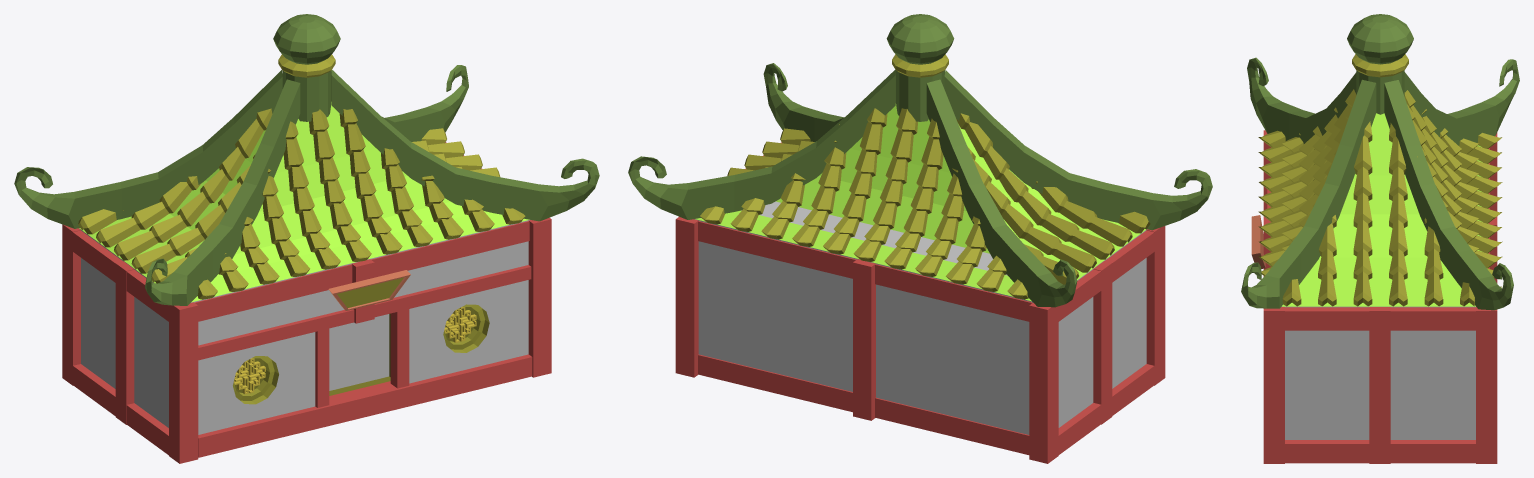
File: Templo1.fbx
The picture shows the model from 3 angles, left to right: view 1: azimuth 30°, elevation 25°; view 2: azimuth 150°, elevation 25°; view 3: azimuth 270°, elevation 25°; orthographic projection.
Parts seen in each view (by area): view 1: Plane, Cube.004, Plane.002, Plane.009, Plane.007, Plane.011, Plane.012, Cylinder, Plane.010, Cube.010, Cube.012, Plane.006; view 2: Plane, Cube.004, Plane.004, Plane.007, Plane.010, Plane.012, Plane.011, Cylinder, Plane.009, Plane.006; view 3: Plane, Cube.004, Plane.006, Plane.002, Plane.004, Plane.010, Plane.009, Cylinder, Plane.012, Plane.011, Cube.010.
Boxes of the visible parts, x1,y1,x2,y2 form: Plane: [79, 102, 529, 434]; Cube.004: [62, 142, 551, 463]; Plane.002: [197, 109, 525, 299]; Plane.009: [331, 70, 599, 221]; Plane.007: [78, 108, 272, 283]; Plane.011: [14, 70, 282, 228]; Plane.012: [145, 79, 300, 305]; Cylinder: [273, 14, 340, 121]; Plane.010: [382, 65, 468, 141]; Cube.010: [328, 270, 410, 310]; Cube.012: [234, 307, 476, 394]; Plane.006: [412, 128, 500, 176]; Plane: [694, 103, 1146, 434]; Cube.004: [675, 142, 1165, 463]; Plane.004: [700, 108, 1028, 299]; Plane.007: [956, 113, 1150, 284]; Plane.010: [628, 69, 895, 219]; Plane.012: [944, 70, 1212, 230]; Plane.011: [926, 79, 1077, 307]; Cylinder: [886, 14, 954, 121]; Plane.009: [763, 63, 843, 141]; Plane.006: [727, 128, 814, 175]; Plane: [1281, 113, 1488, 439]; Cube.004: [1263, 130, 1497, 463]; Plane.006: [1282, 121, 1474, 306]; Plane.002: [1258, 89, 1356, 276]; Plane.004: [1404, 90, 1502, 287]; Plane.010: [1384, 80, 1513, 310]; Plane.009: [1241, 79, 1376, 308]; Cylinder: [1347, 14, 1413, 114]; Plane.012: [1247, 57, 1356, 143]; Plane.011: [1404, 59, 1519, 145]; Cube.010: [1251, 215, 1265, 268].
Size of the model in its own units: 482 by 362 by 258.
